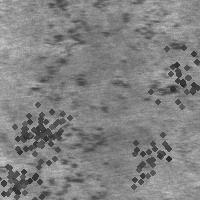rolled-in_scale: (96, 2, 183, 94), (0, 93, 78, 173), (28, 1, 90, 101), (139, 30, 200, 120), (45, 117, 106, 198), (118, 125, 182, 189), (0, 142, 51, 200)
